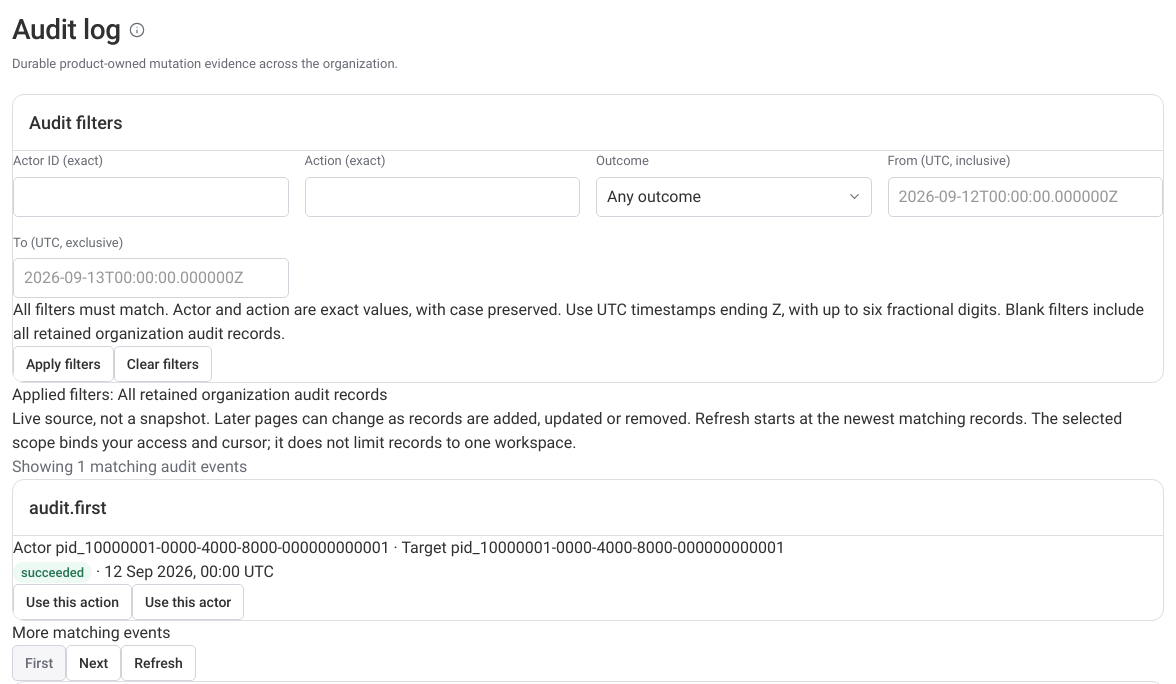
Test: bounded audit browsing › keeps the last good page on Next failure and retries the exact cursor
The image size is (1176, 684).
Expected: the heading "audit.first" is shown, [29,496,107,520]
Click the button "Next".
click(94, 663)  # box [66,645,121,681]
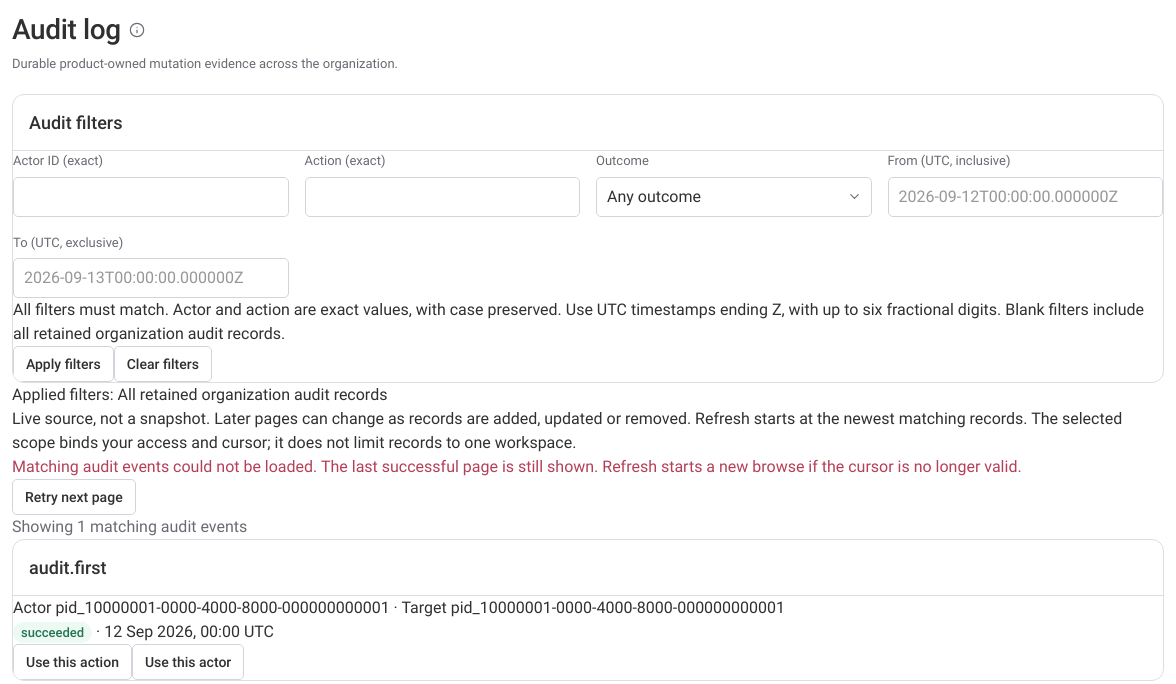
Expected: the heading "audit.first" is shown, [29,556,107,580]
Expected: the 1st message shows "could not be loaded", [12,457,321,476]
Click the button "Retry next page".
click(74, 497)  # box [12,479,136,515]
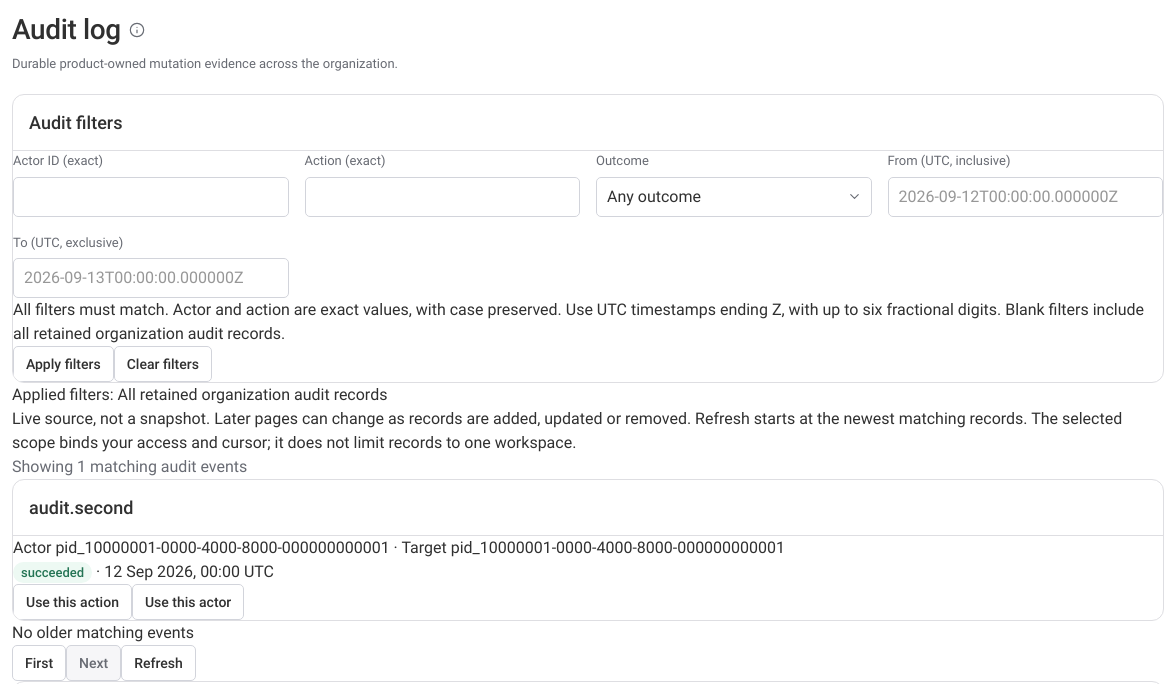
Expected: the heading "audit.second" is shown, [29,496,133,520]
Expected: the heading "audit.first" is gone
